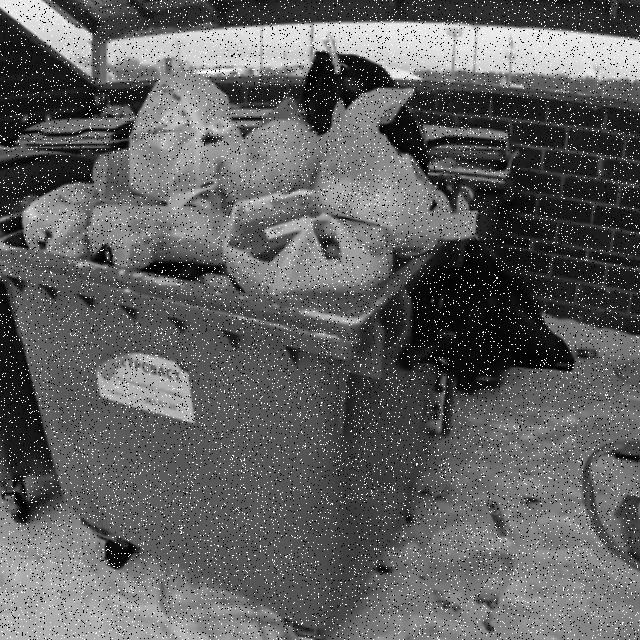Trashcan: (7, 50, 518, 635)
